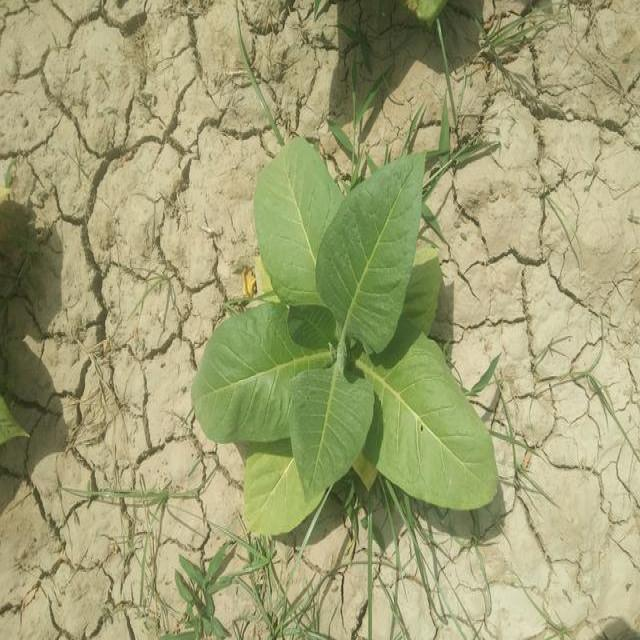crop: (187, 130, 478, 523)
